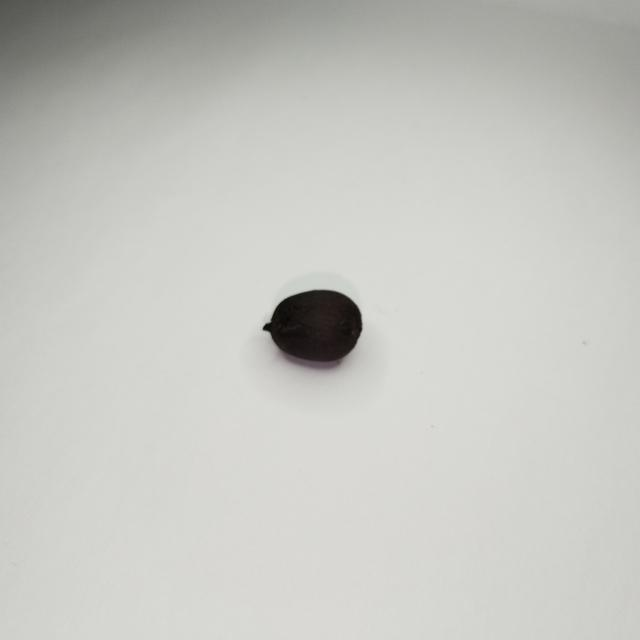Danado: (263, 291, 361, 362)
